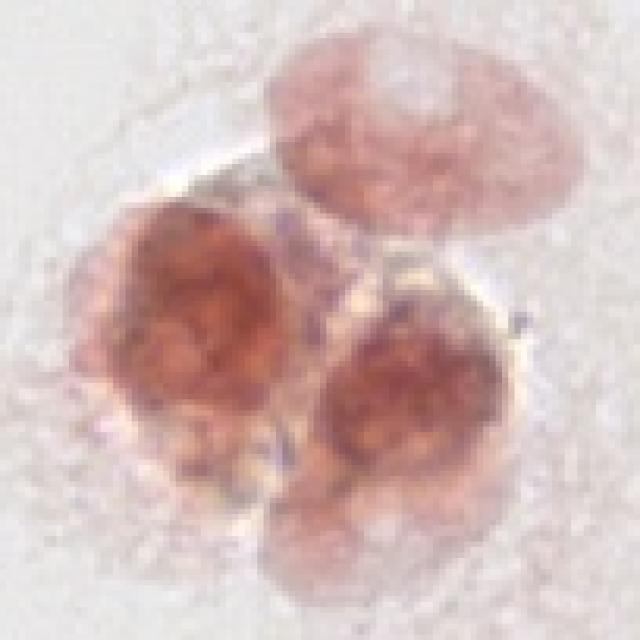cytoplasm: (212, 235, 606, 640)
nucleus: (288, 273, 540, 524)
